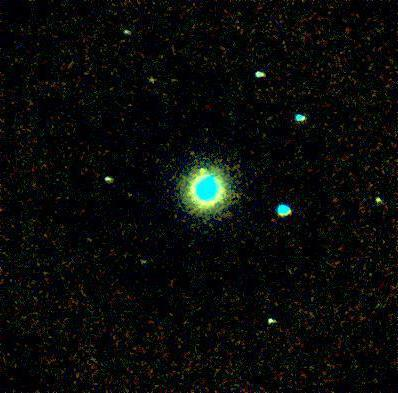star: (186, 156, 216, 186)
